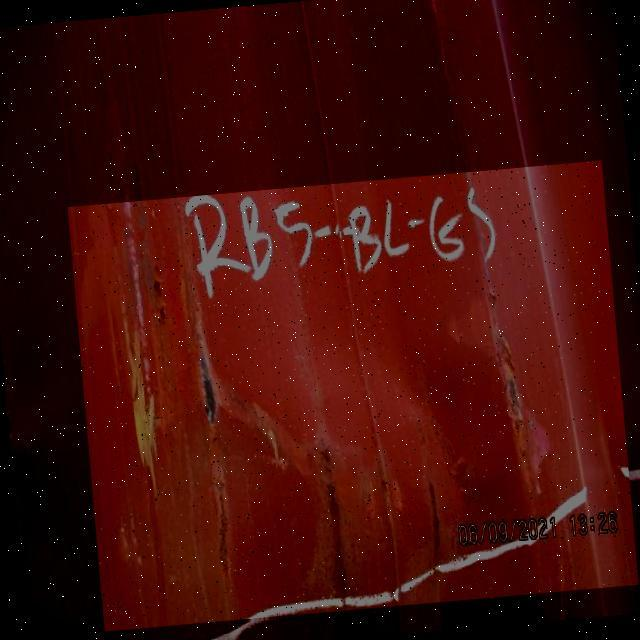Dent: (68, 161, 639, 634)
